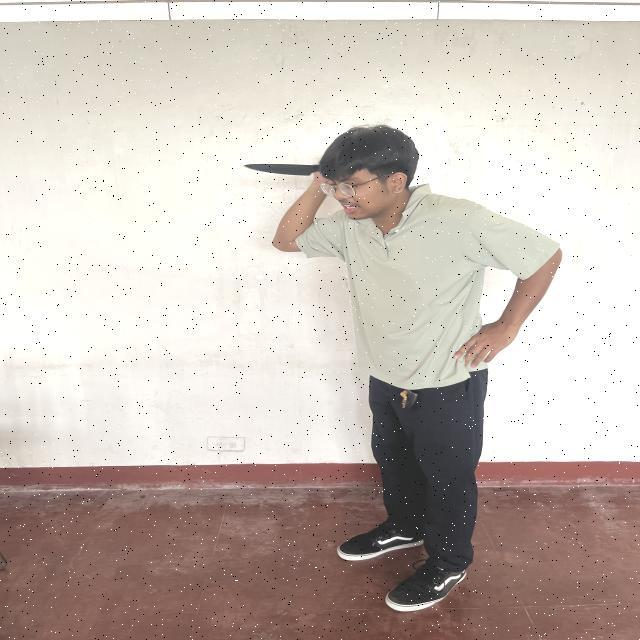knife: (244, 162, 323, 175)
non-violence: (243, 127, 561, 611)
